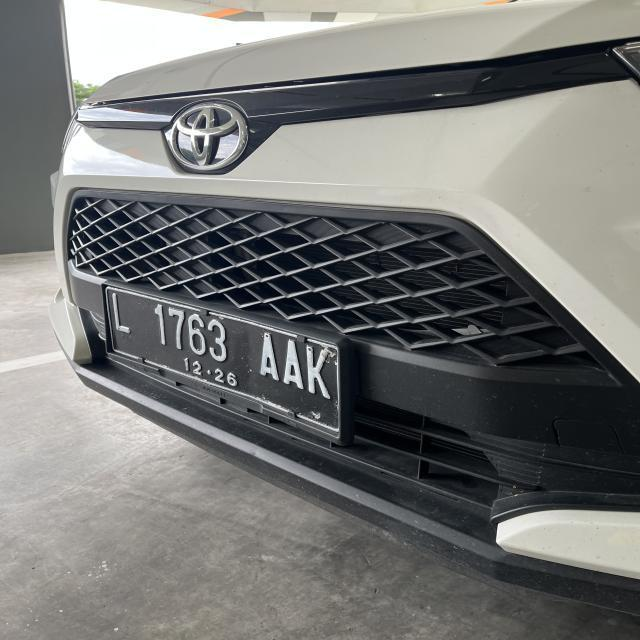1: (150, 306, 166, 344)
3: (207, 316, 230, 364)
6: (188, 310, 206, 357)
7: (168, 306, 186, 353)
A: (258, 328, 279, 384), (285, 338, 301, 392)
K: (306, 343, 334, 404)
L: (112, 294, 134, 332)
